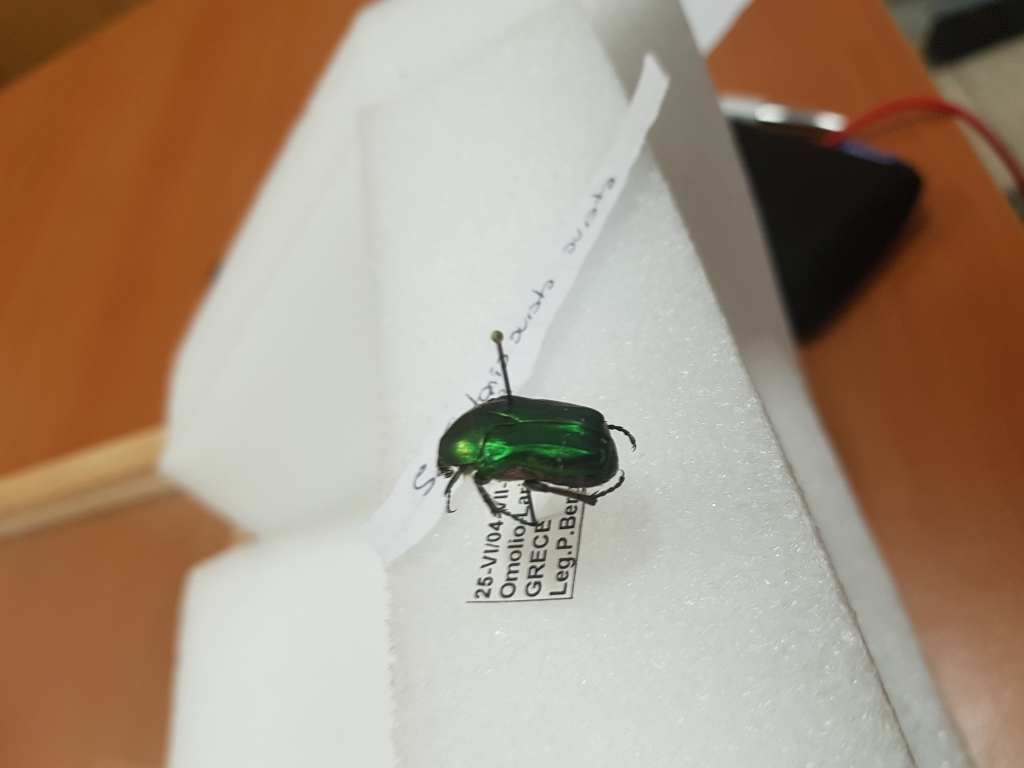Cetonia_aurata: (429, 393, 639, 530)
